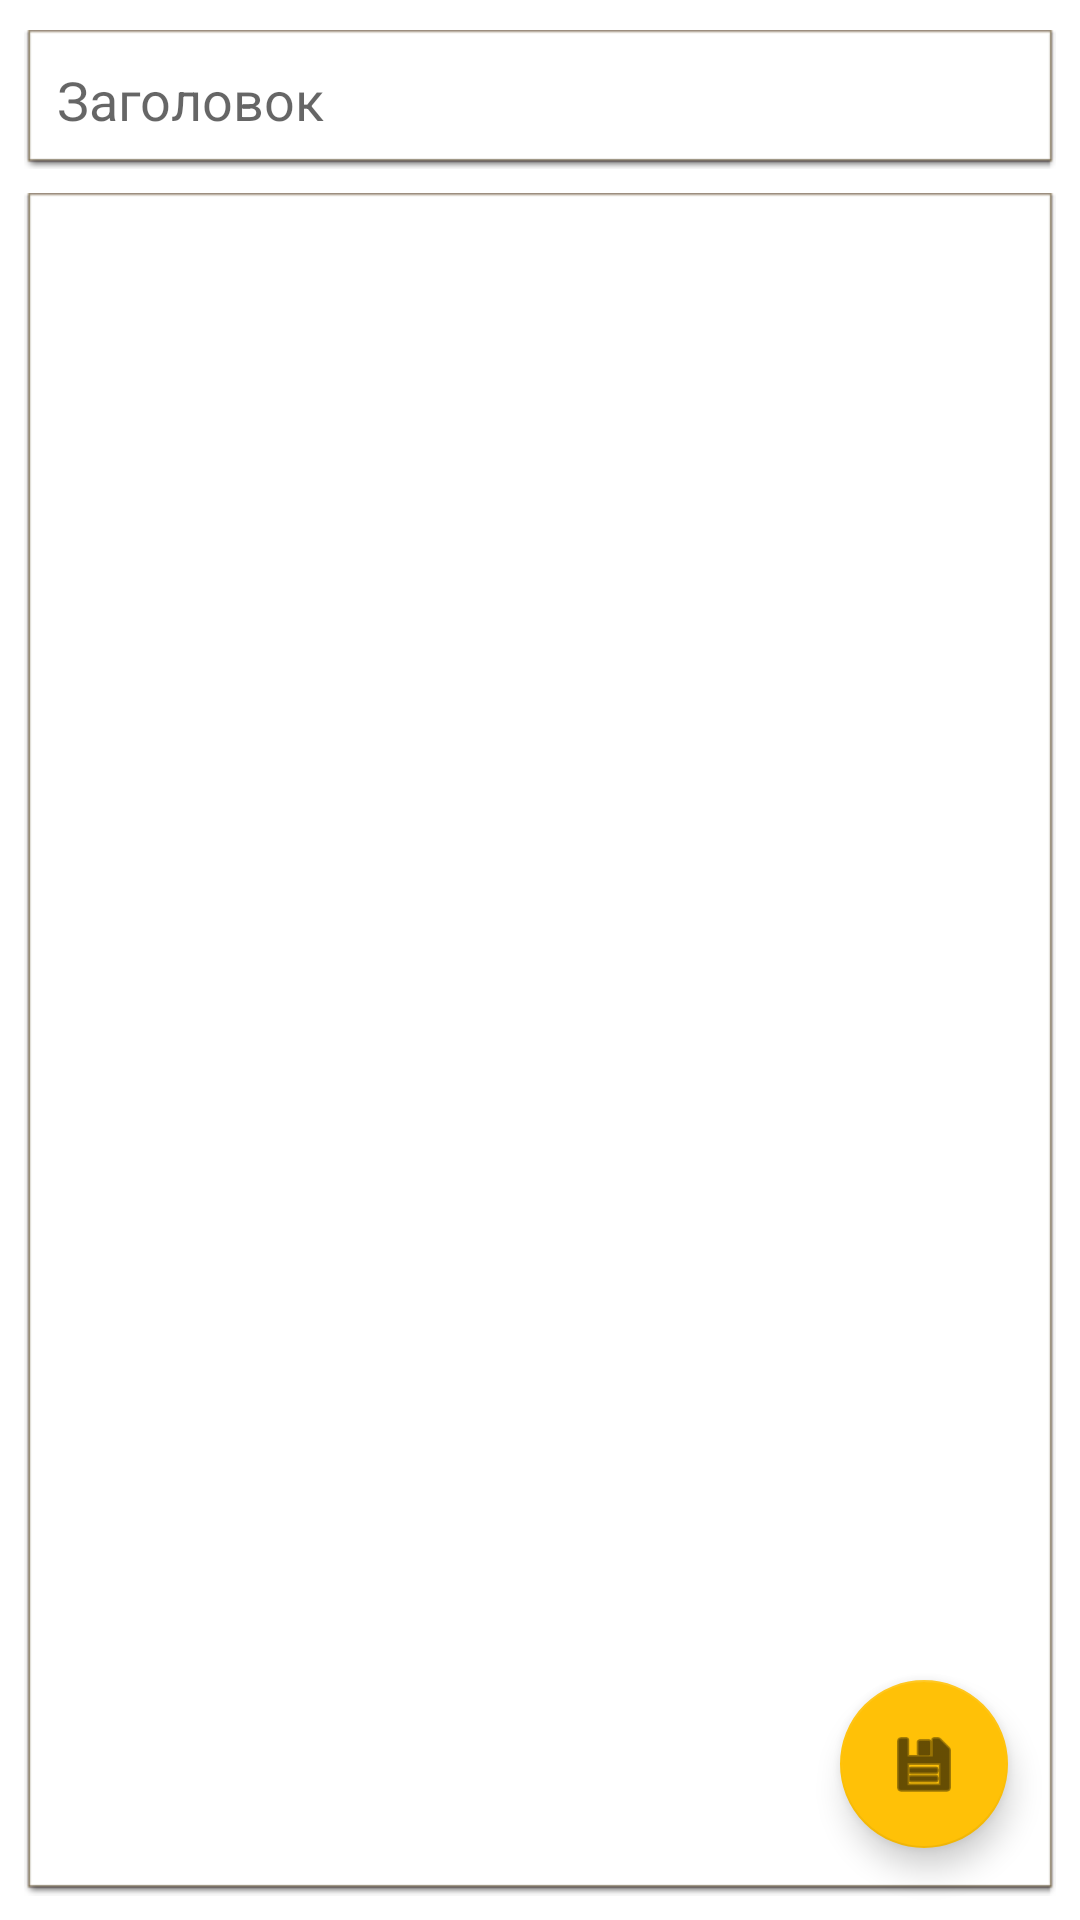

Icons on this 1080 × 1920 Android screen, each with the point to tap as (x,y):
save: (924,1764)
